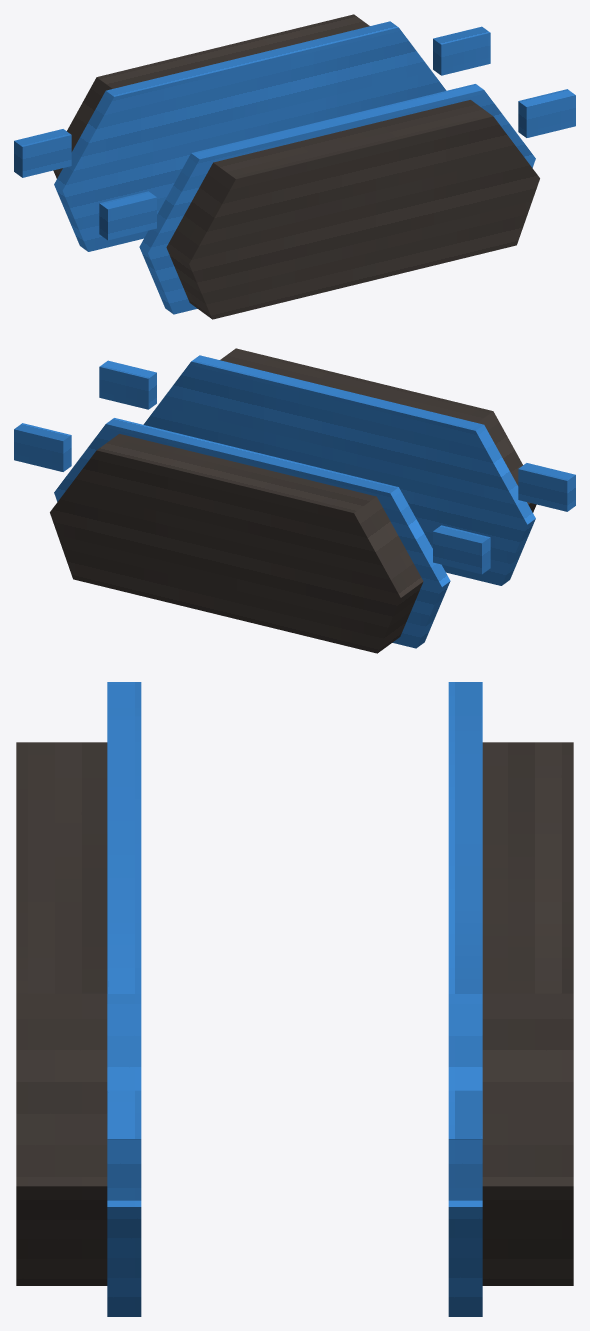
File: pastilhas_n2.glb
3 renders of one model, top to bottom at view 1: azimuth 30°, elevation 25°; view 2: azimuth 150°, elevation 25°; view 3: azimuth 270°, elevation 25°, orthographic. The views are drawn at different scales.
Visible parts, largest first — view 1: pastilhas_n2; view 2: pastilhas_n2; view 3: pastilhas_n2.
Boxes of the visible parts, x1,y1,x2,y2 form: pastilhas_n2: (14, 14, 575, 319); pastilhas_n2: (14, 348, 575, 653); pastilhas_n2: (16, 682, 573, 1316).
Bounding box in the file's own units: 0.19 × 0.0577 × 0.098.
Materials: 1 (1 with a texture image).
